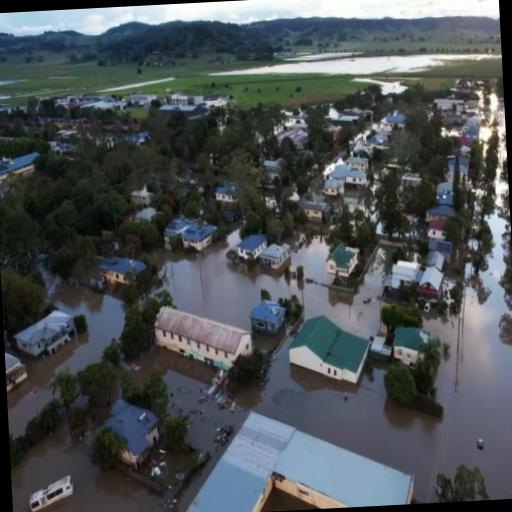flood: (136, 169, 512, 512), (162, 233, 394, 337), (7, 287, 123, 434), (210, 53, 502, 74), (482, 94, 507, 161), (97, 77, 175, 91), (0, 79, 24, 85)
house: (170, 401, 421, 512), (286, 308, 376, 392), (152, 302, 248, 374), (96, 398, 170, 472), (10, 308, 76, 363), (97, 252, 151, 296), (165, 214, 217, 258), (248, 295, 290, 344), (389, 326, 425, 374), (416, 264, 448, 314), (326, 242, 360, 288), (292, 194, 331, 228), (4, 348, 28, 403), (255, 240, 290, 274), (234, 232, 267, 268), (330, 164, 368, 185), (425, 216, 447, 241), (127, 188, 152, 206), (323, 178, 345, 196), (213, 184, 231, 202), (348, 156, 370, 170)
